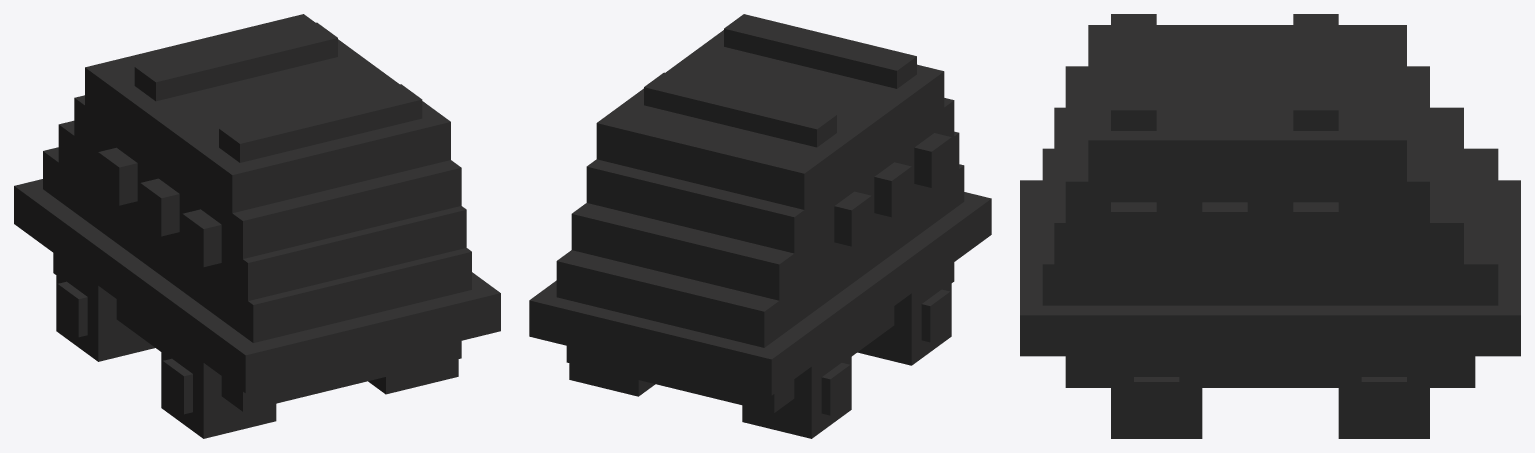
File: mousedroid.obj
The picture shows the model from 3 angles, left to right: view 1: azimuth 30°, elevation 25°; view 2: azimuth 150°, elevation 25°; view 3: azimuth 270°, elevation 25°; orthographic projection. The views are drawn at different scales.
Parts seen in each view (by area): view 1: cube, Wheels; view 2: cube, Wheels; view 3: cube, Wheels.
Part boxes in pixels (x1,y1,x2,y2): cube: (14, 14, 500, 411); Wheels: (56, 22, 458, 438); cube: (529, 30, 991, 412); Wheels: (569, 14, 951, 438); cube: (1020, 25, 1520, 387); Wheels: (1111, 14, 1429, 438).
Bounding box in the file's own units: 0.4688 × 0.4688 × 0.6875.
